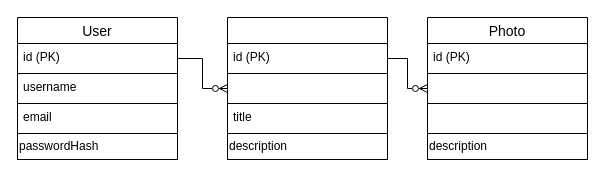
Some shapes in this 605 by 177 pixel diagram are drawn without their labels. The box of each missing label's shape, as (x1, y1, x2, y2) in pixels:
Gallery: (226, 16, 388, 134)
gallery_id (FK -> Gallery.id): (426, 72, 588, 104)
url: (426, 102, 588, 134)
user_id (FK -> User.id): (226, 72, 388, 104)
